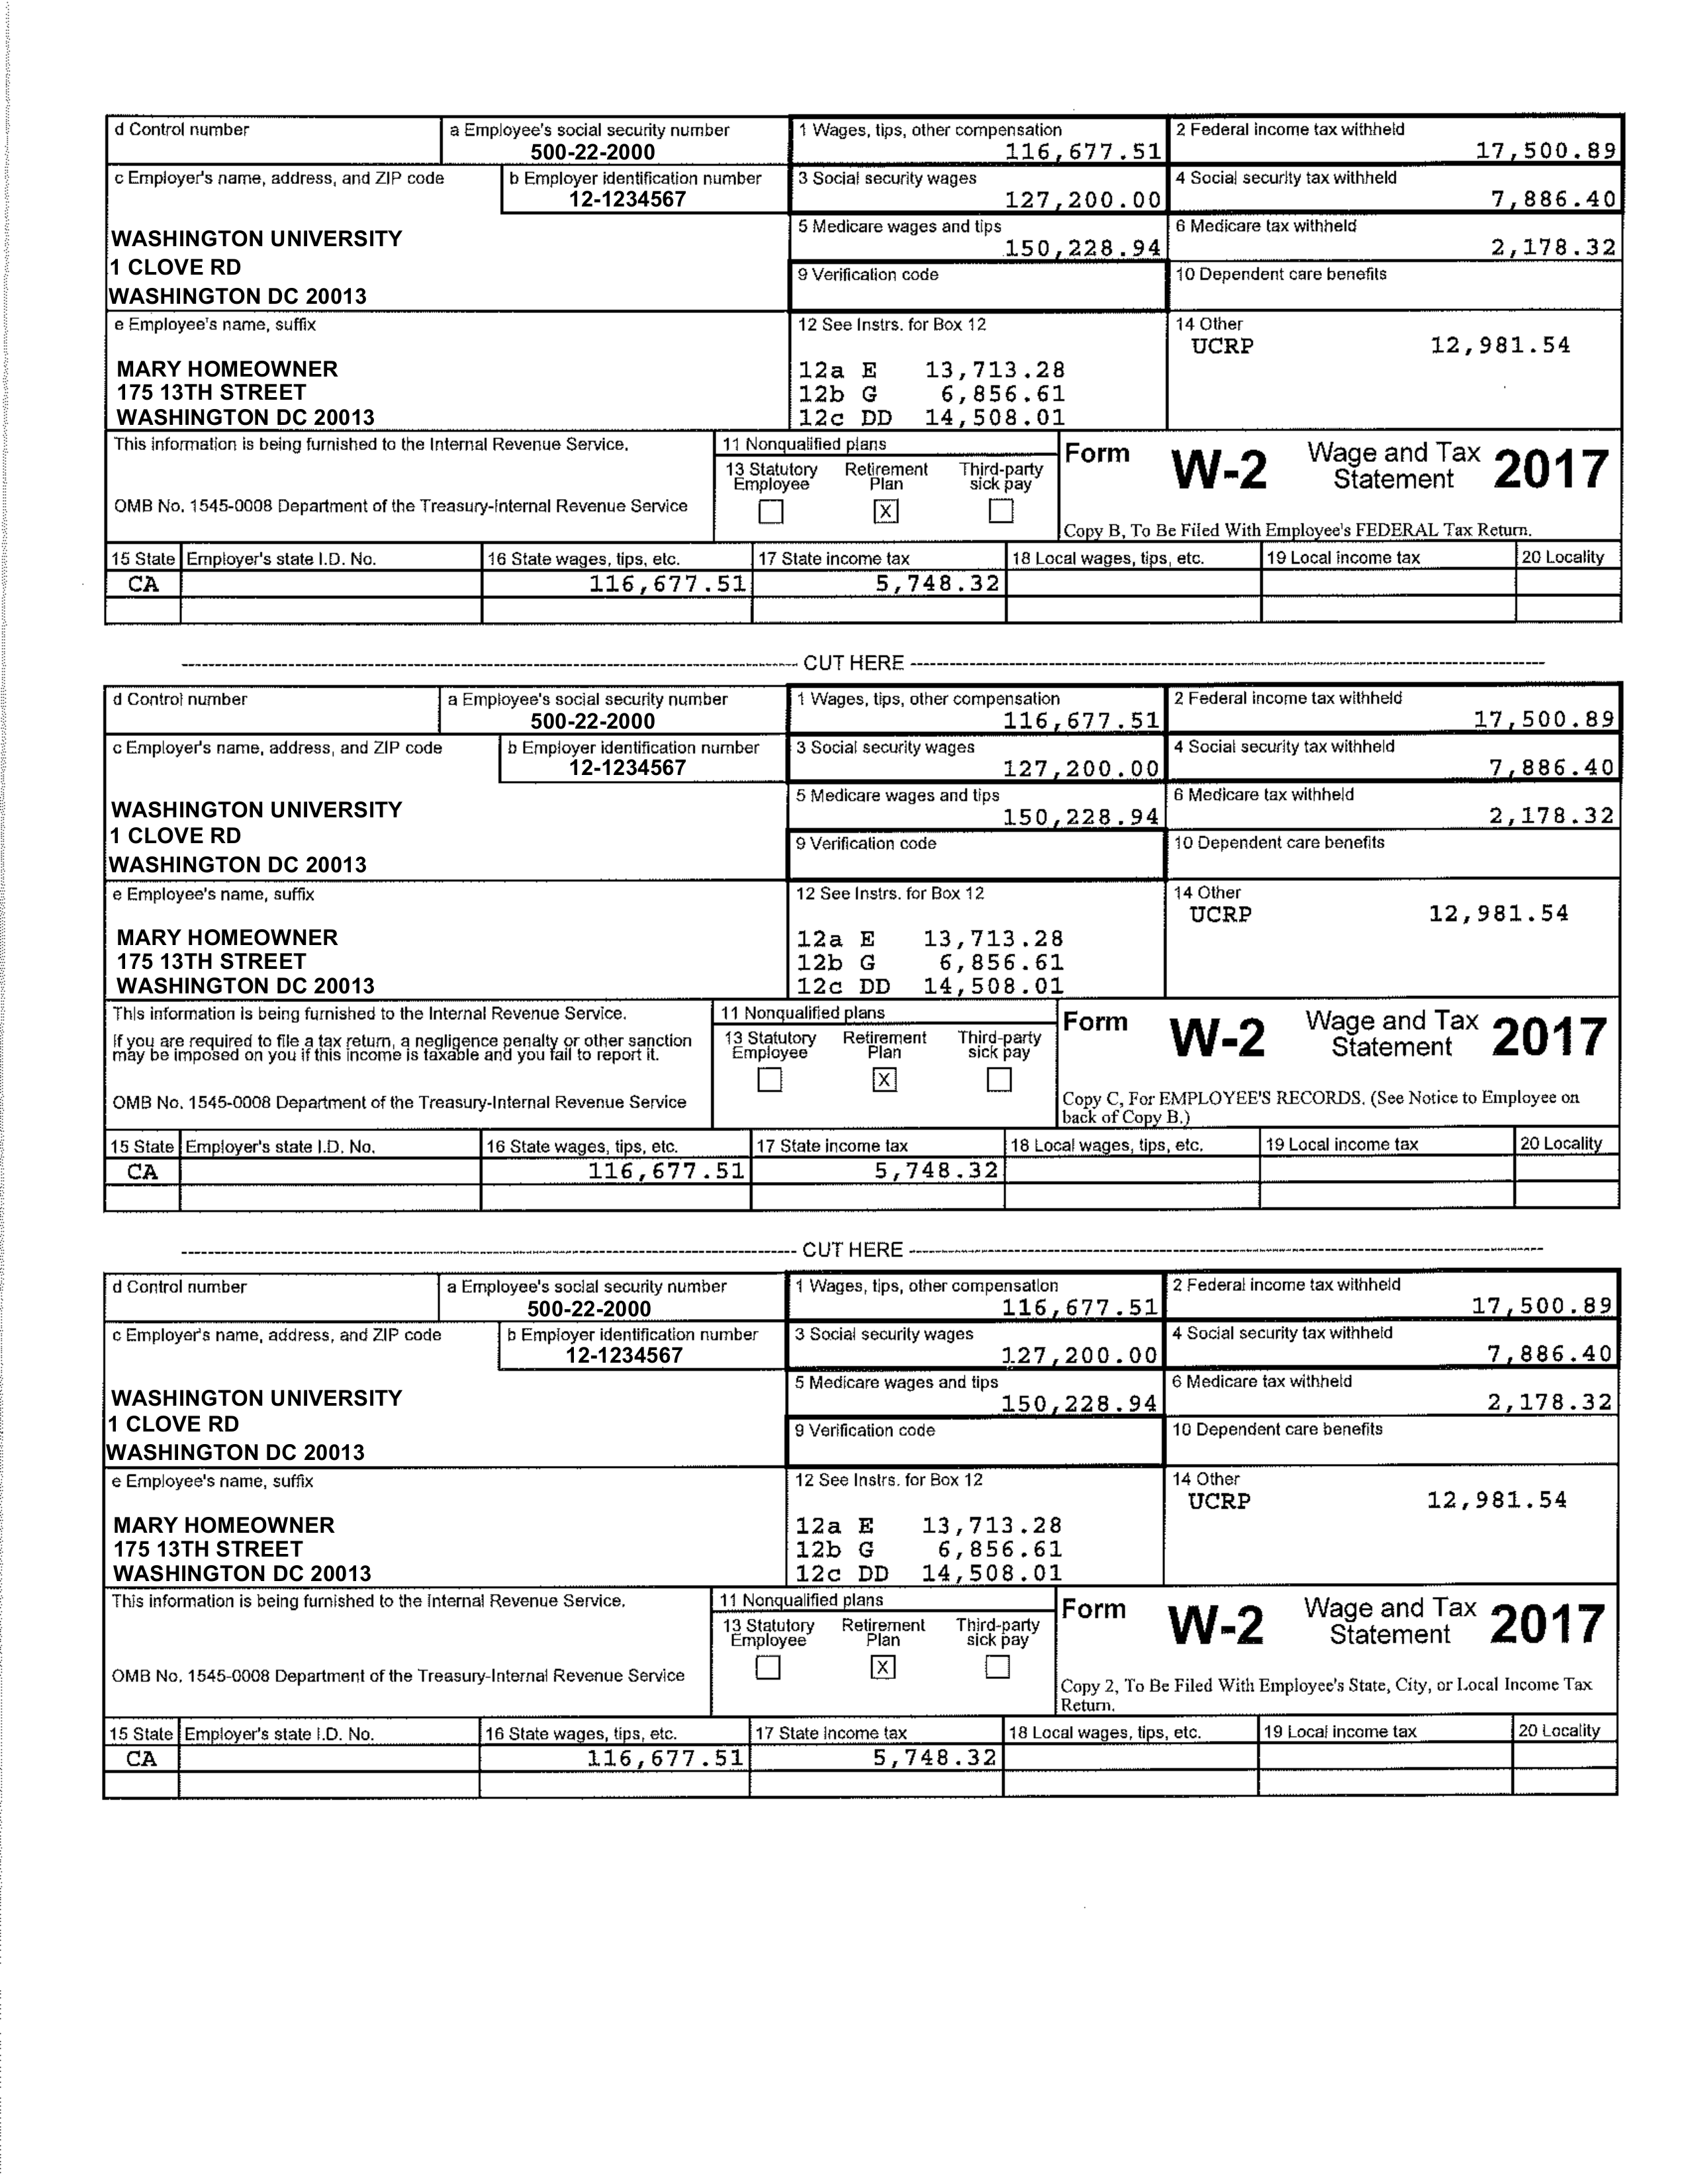table: (103, 681, 1622, 1213), (99, 1267, 1619, 1799), (105, 115, 1624, 622)
